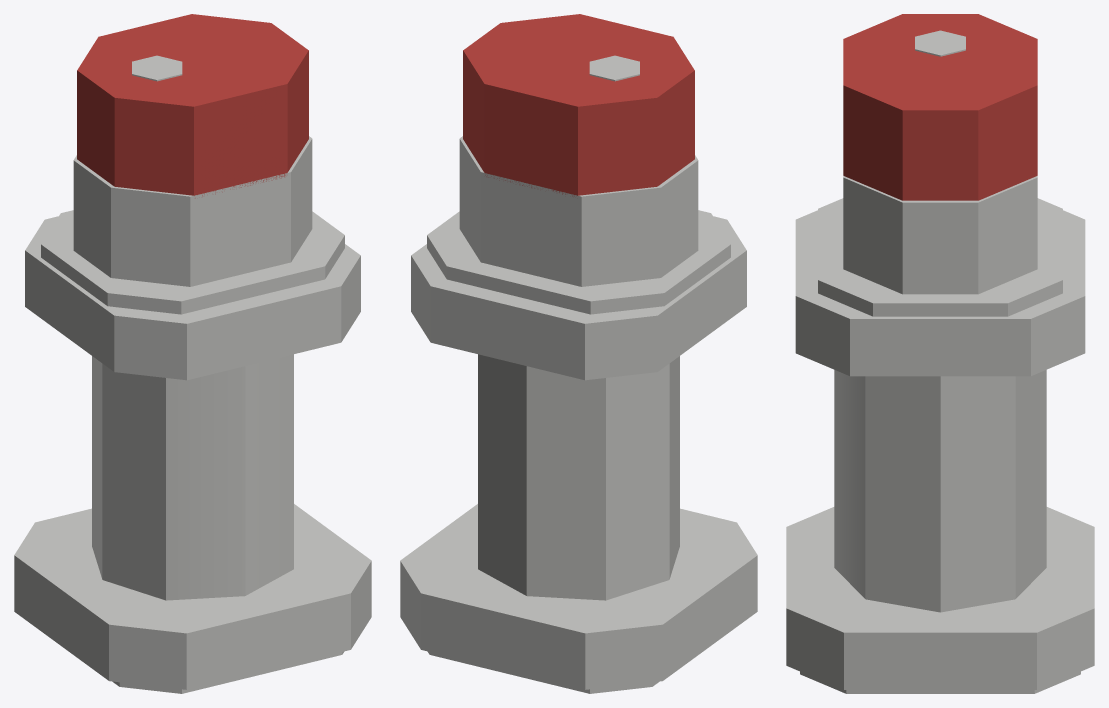
File: hot_cam_1_lod2.glb
3 renders of one model, left to right at view 1: azimuth 30°, elevation 25°; view 2: azimuth 150°, elevation 25°; view 3: azimuth 270°, elevation 25°, orthographic.
Visible parts, largest first — view 1: hot_cam_1_lod2; view 2: hot_cam_1_lod2; view 3: hot_cam_1_lod2.
Boxes of the visible parts, x1,y1,x2,y2 form: hot_cam_1_lod2: [14, 14, 371, 693]; hot_cam_1_lod2: [400, 14, 757, 693]; hot_cam_1_lod2: [786, 14, 1094, 693].
Size of the model in its own units: 0.146 by 0.3 by 0.146.
